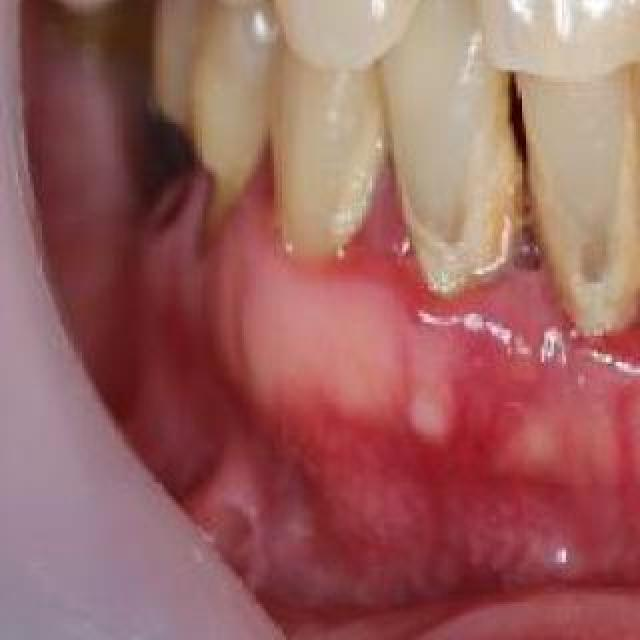calculus: (292, 120, 640, 334)
spacing: (472, 53, 570, 283), (398, 0, 516, 64)
